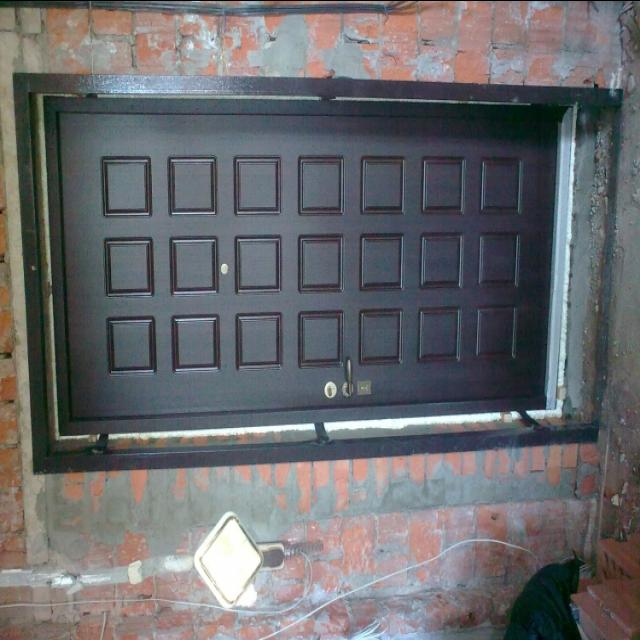close: (46, 106, 570, 410)
